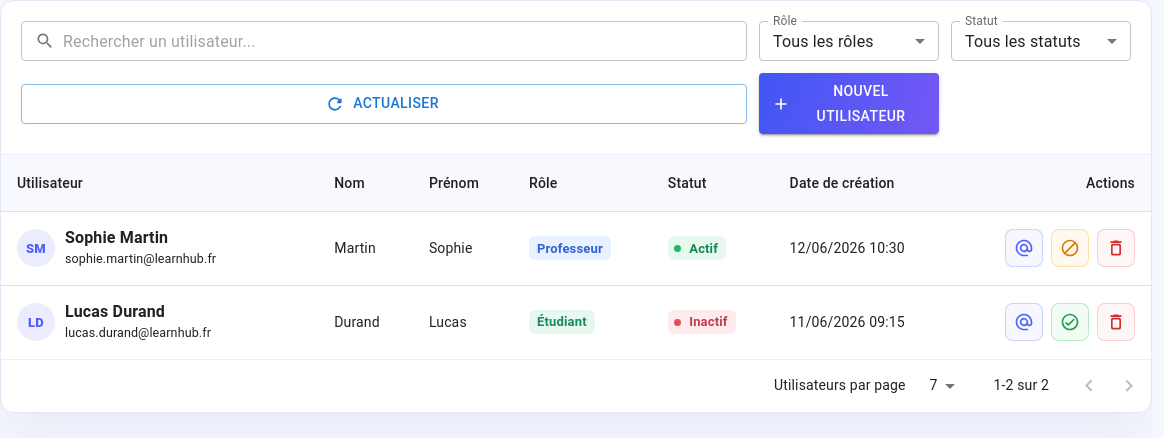
it: UsersList › filtre la liste avec la recherche
The image size is (1164, 438).
Type "lucas" into the field labelled "Rechercher un utilisateur".
click(405, 41); type("lucas")  # box [63, 21, 747, 61]
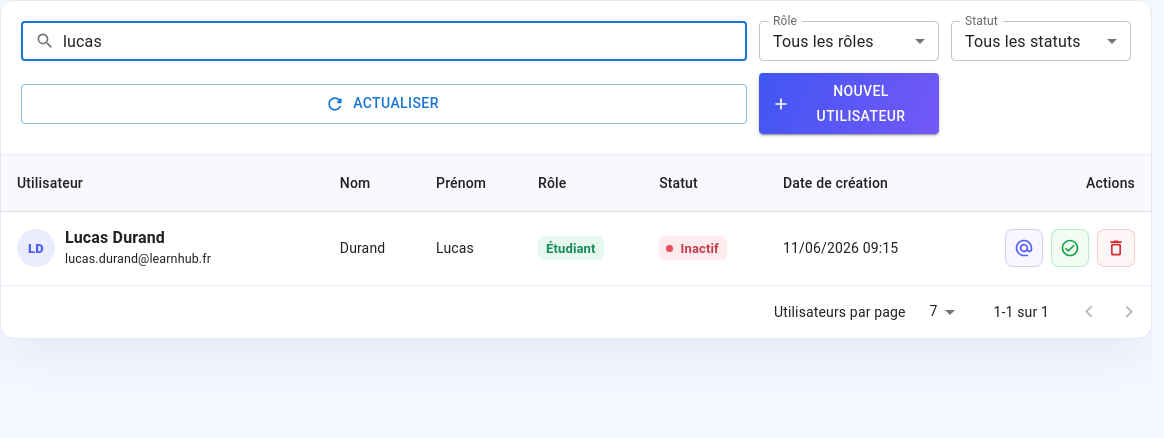
Check: the text "Lucas Durand" is shown, box [65, 228, 165, 247]
Check: the text "Sophie Martin" is gone
